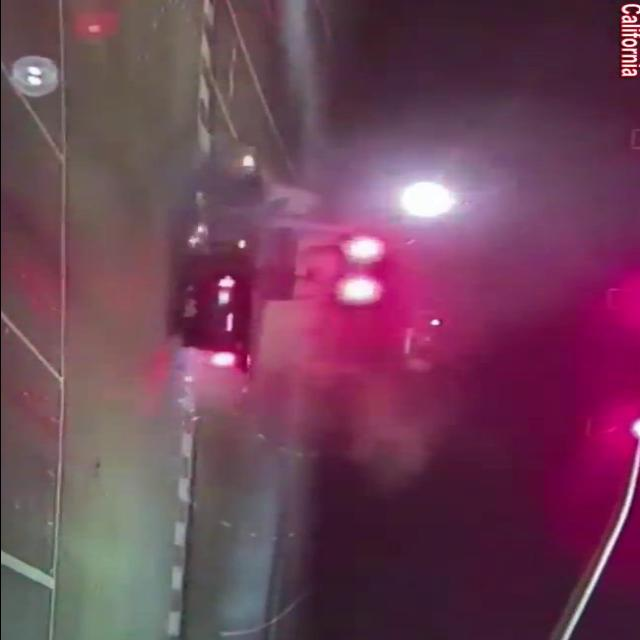accident: (165, 108, 423, 386)
